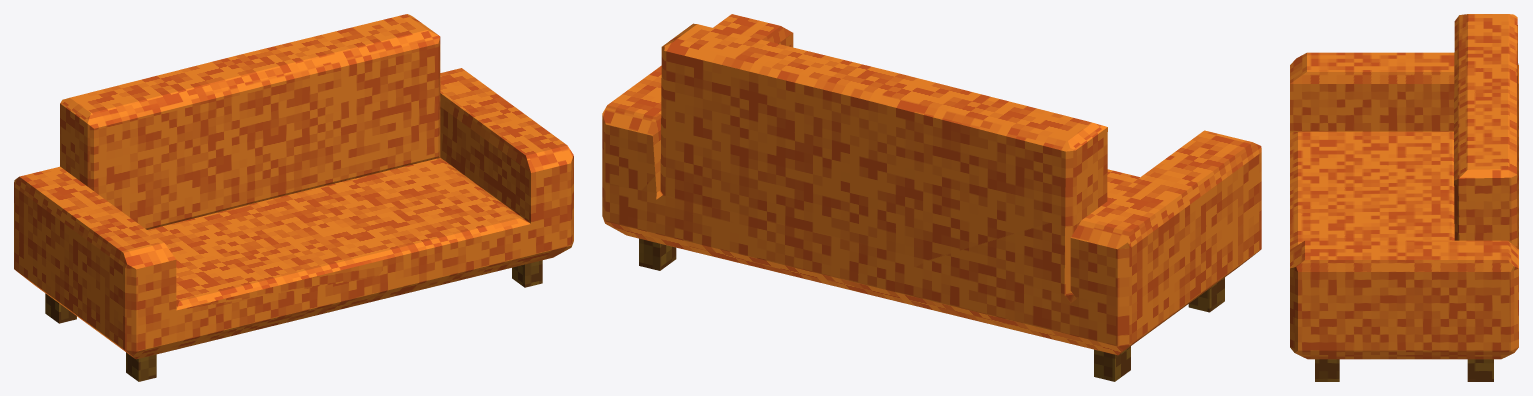
File: chouch.fbx
The picture shows the model from 3 angles, left to right: view 1: azimuth 30°, elevation 25°; view 2: azimuth 150°, elevation 25°; view 3: azimuth 270°, elevation 25°; orthographic projection. The views are drawn at different scales.
Visible parts, largest first — view 1: couch; view 2: couch; view 3: couch.
Boxes of the visible parts, x1=… form: couch: x1=14, y1=14, x2=573, y2=381; couch: x1=602, y1=14, x2=1261, y2=381; couch: x1=1290, y1=14, x2=1518, y2=381.
Bounding box in the file's own units: 821 × 357 × 378.
Materials: 2 (2 with a texture image).
